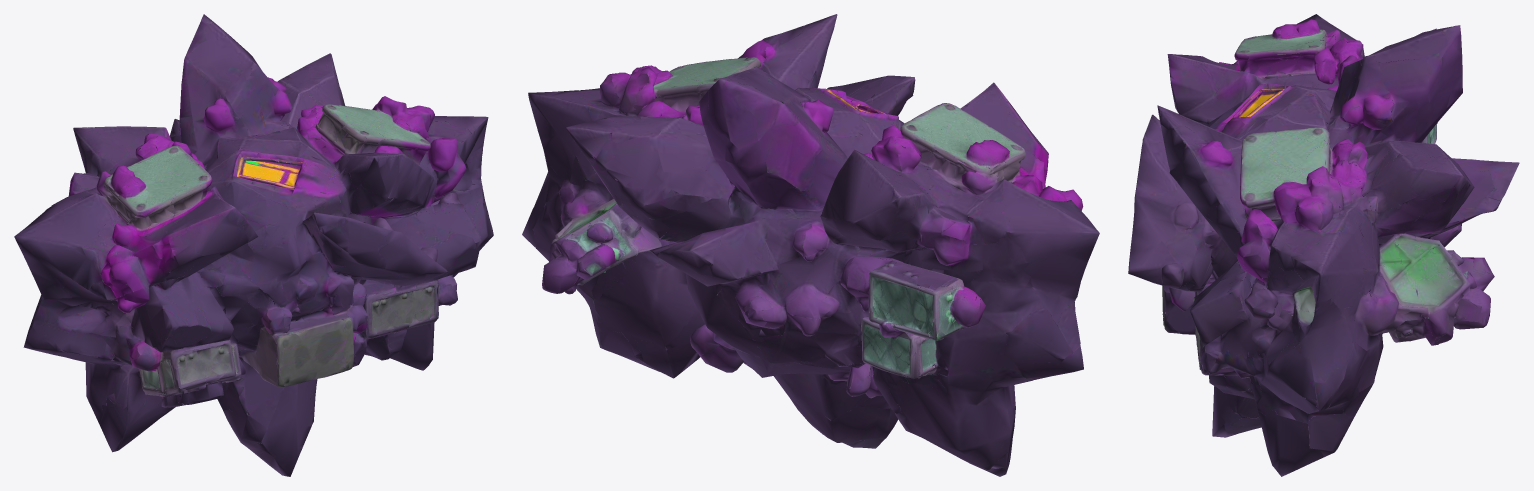
The model's file is fermata.glb.
3 views of the same model, side by side, from view 1: azimuth 30°, elevation 25°; view 2: azimuth 150°, elevation 25°; view 3: azimuth 270°, elevation 25° (orthographic). The views are drawn at different scales.
Visible parts, largest first — view 1: Mesh_0; view 2: Mesh_0; view 3: Mesh_0.
Boxes of the visible parts, box(x1,y1,x2,y2) form: Mesh_0: box(14, 14, 493, 476); Mesh_0: box(522, 14, 1099, 476); Mesh_0: box(1128, 14, 1519, 476).
Size of the model in its own units: 1.9 by 1.43 by 1.19.
1 material, 1 textured.
